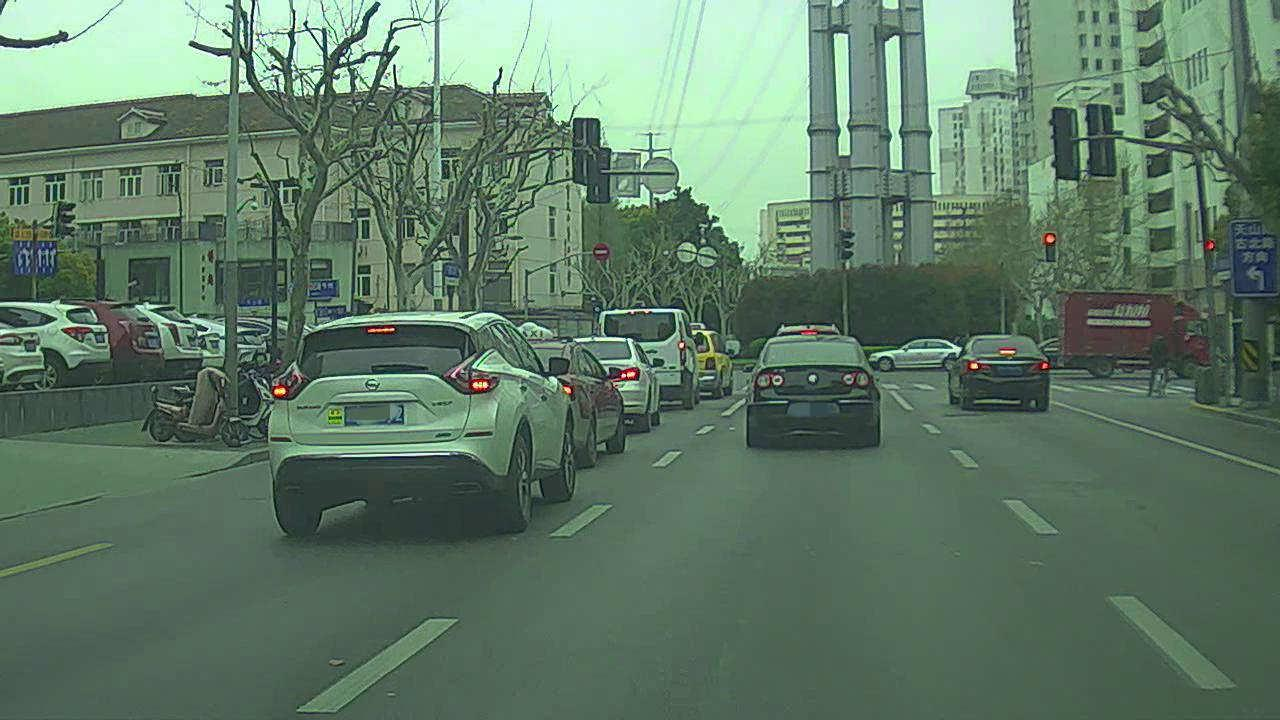traffic_light: (1043, 230, 1058, 262)
